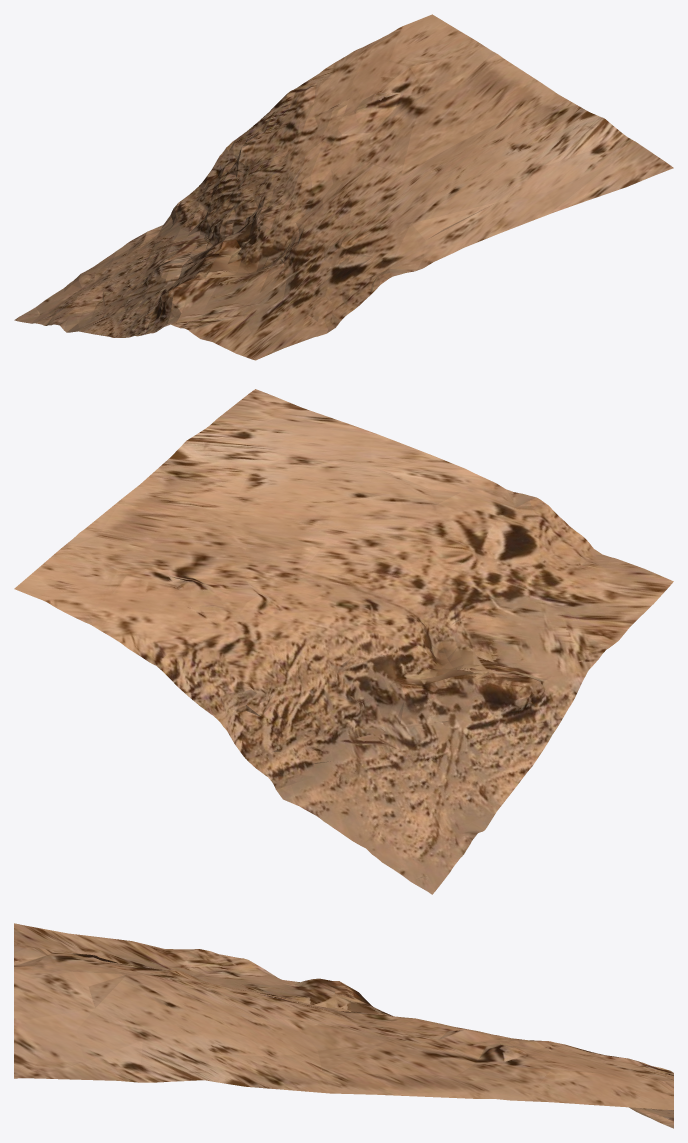
3 renders of one model, top to bottom at view 1: azimuth 30°, elevation 25°; view 2: azimuth 150°, elevation 25°; view 3: azimuth 270°, elevation 25°, orthographic. The views are drawn at different scales.
Bounding box in the file's own units: 2.09 × 1.08 × 2.09.
3 materials, 3 textured.
